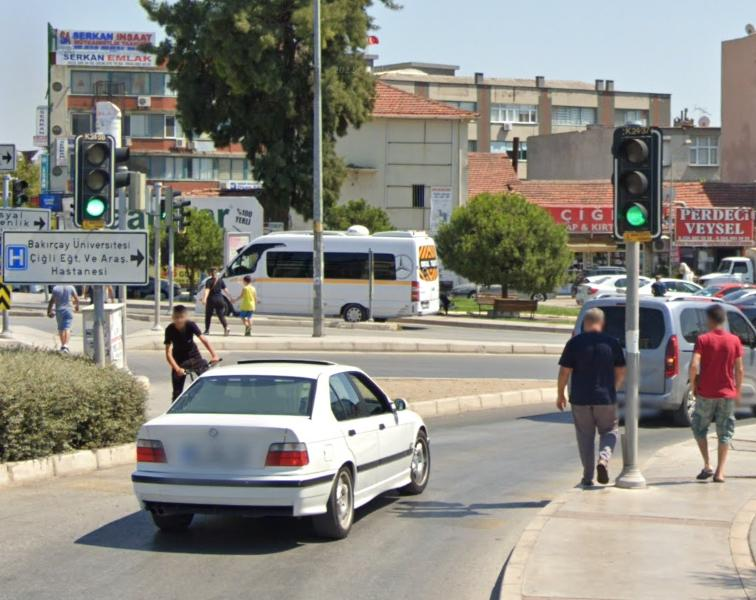greenlight: (613, 128, 655, 236), (76, 137, 112, 226), (160, 199, 165, 220)
